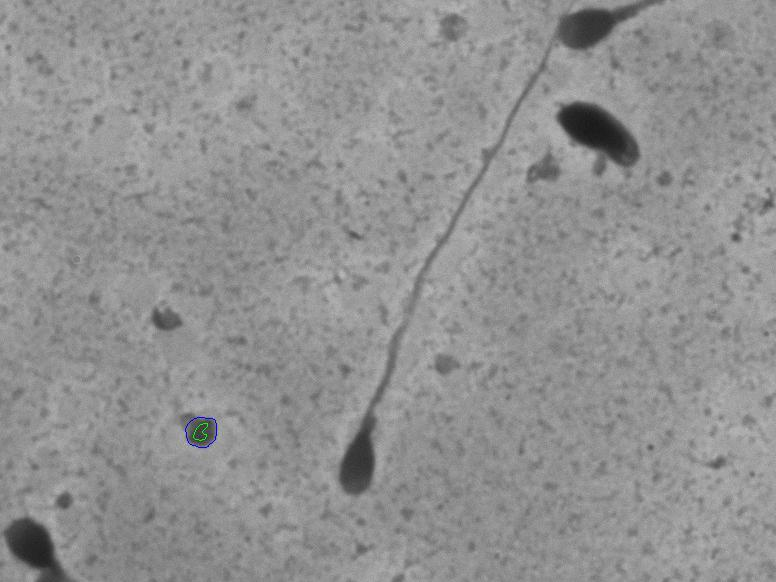Abnormal: (322, 16, 571, 518), (546, 94, 671, 186)
